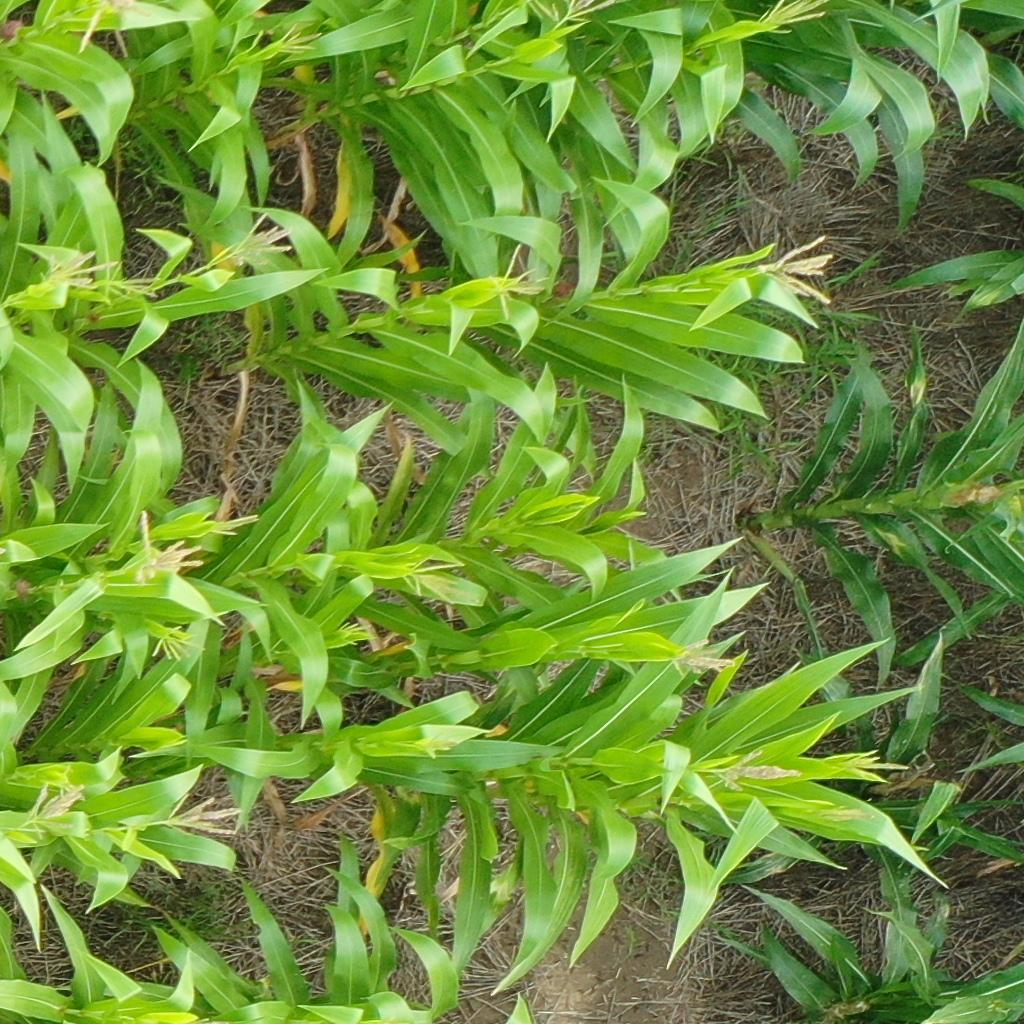Tassel: (752, 234, 836, 307), (128, 507, 203, 581), (487, 242, 550, 319), (226, 214, 298, 272), (715, 747, 806, 792), (23, 781, 88, 842), (165, 792, 242, 839), (403, 551, 464, 608), (41, 244, 116, 289), (76, 1, 137, 54), (756, 1, 833, 40), (671, 632, 737, 676), (844, 745, 911, 785), (147, 622, 209, 662), (104, 260, 165, 298), (550, 1, 617, 33), (204, 508, 259, 538), (817, 800, 876, 827), (274, 23, 321, 56), (415, 726, 457, 759), (337, 618, 375, 647), (57, 767, 87, 803)
